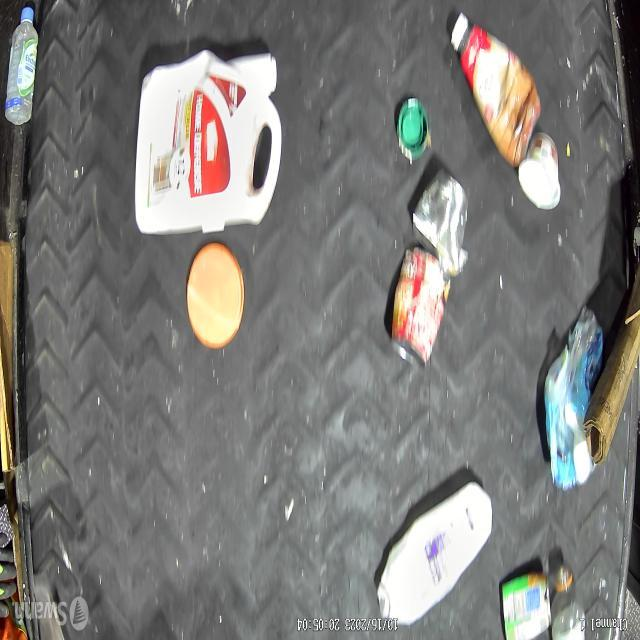can: (389, 244, 454, 368), (411, 169, 469, 277), (501, 572, 552, 640)
milk_jug: (377, 482, 492, 626)
non_white_jug: (134, 48, 282, 235)
plastic_bottle: (4, 4, 38, 127), (551, 563, 587, 640)
